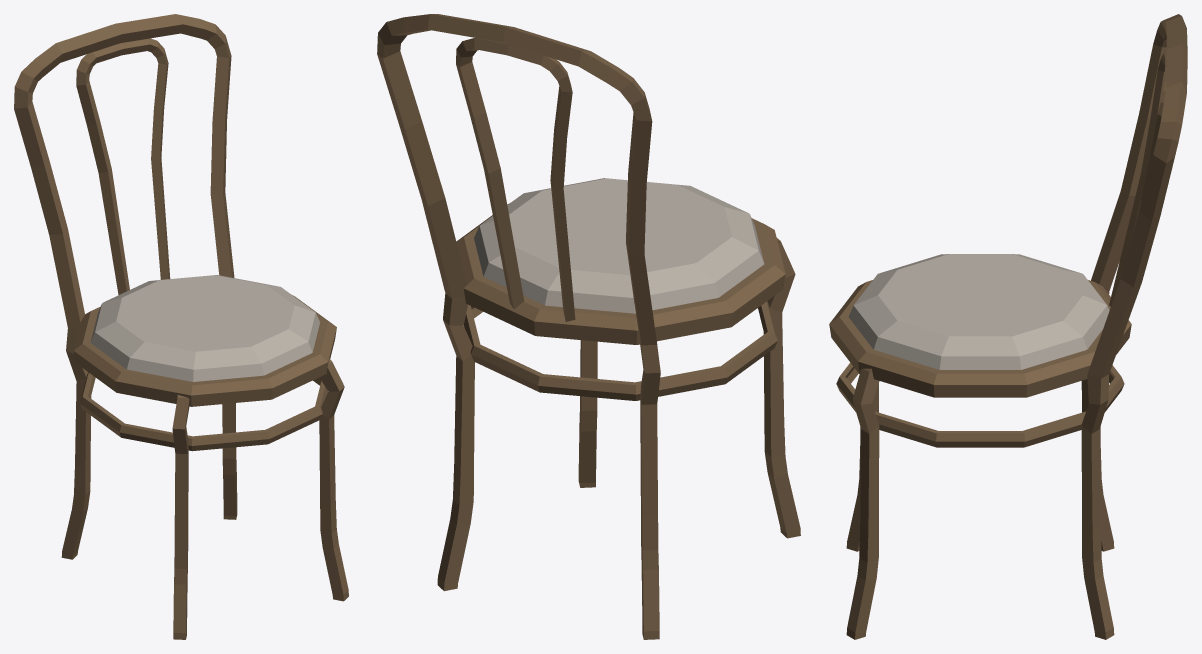
Rendered from chair.glb.
The picture shows the model from 3 angles, left to right: view 1: azimuth 30°, elevation 25°; view 2: azimuth 150°, elevation 25°; view 3: azimuth 270°, elevation 25°; orthographic projection. The views are drawn at different scales.
Visible parts, largest first — view 1: Chair; view 2: Chair; view 3: Chair.
Part boxes in pixels (left/top/right/bottom): Chair: left=14, top=14, right=348, bottom=639; Chair: left=377, top=14, right=800, bottom=639; Chair: left=829, top=14, right=1187, bottom=639.
Bounding box in the file's own units: 0.5072 × 1.07 × 0.6321.
